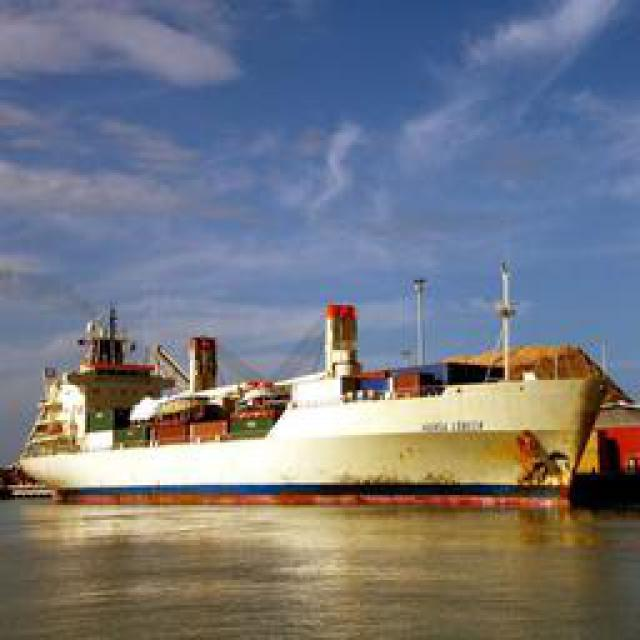Ship: (14, 306, 629, 511)
